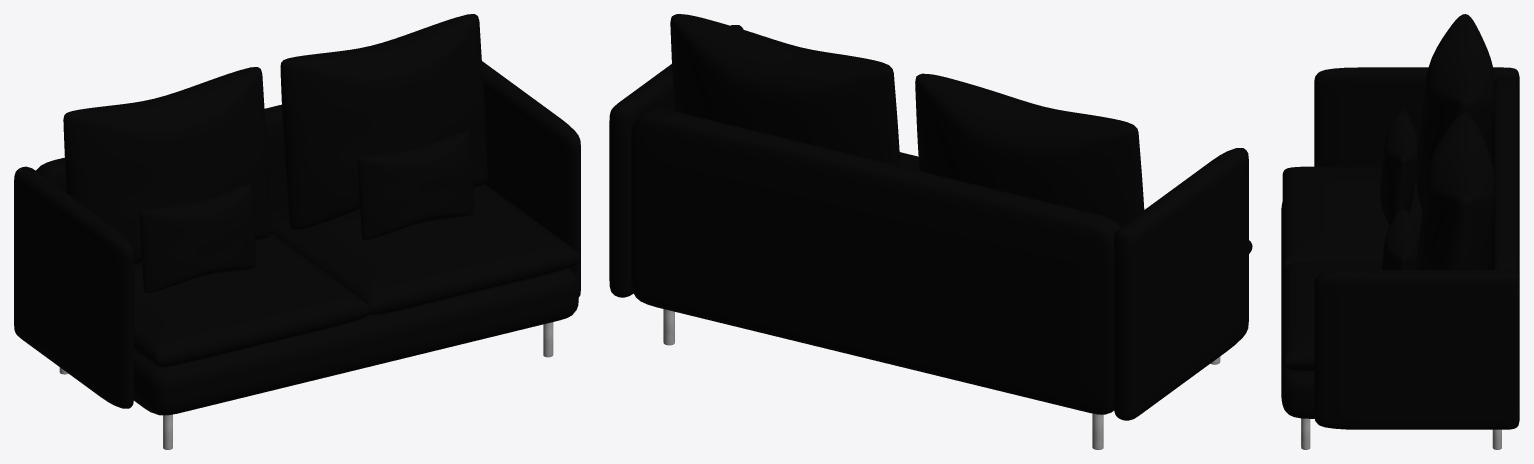
3 renders of one model, left to right at view 1: azimuth 30°, elevation 25°; view 2: azimuth 150°, elevation 25°; view 3: azimuth 270°, elevation 25°, orthographic. The views are drawn at different scales.
Visible parts, largest first — view 1: pCube12; view 2: pCube12; view 3: pCube12.
Boxes of the visible parts, bbox=[...] form: pCube12: bbox=[14, 14, 580, 449]; pCube12: bbox=[609, 14, 1252, 449]; pCube12: bbox=[1281, 14, 1519, 449].
Size of the model in its own units: 0.7456 by 0.4204 by 0.3552.
Materials: 1 (1 with a texture image).
